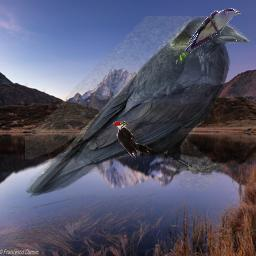Crow: (25, 16, 252, 199)
Cuckoo: (176, 8, 241, 64)
Woodpecker: (112, 121, 157, 160)
